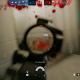Friend_label: (70, 43, 74, 45), (53, 45, 56, 47), (5, 51, 6, 54)
